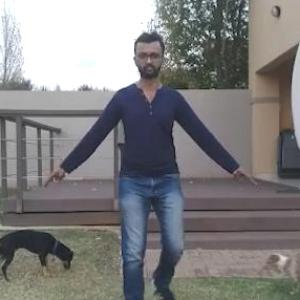land: (68, 47, 231, 299)
